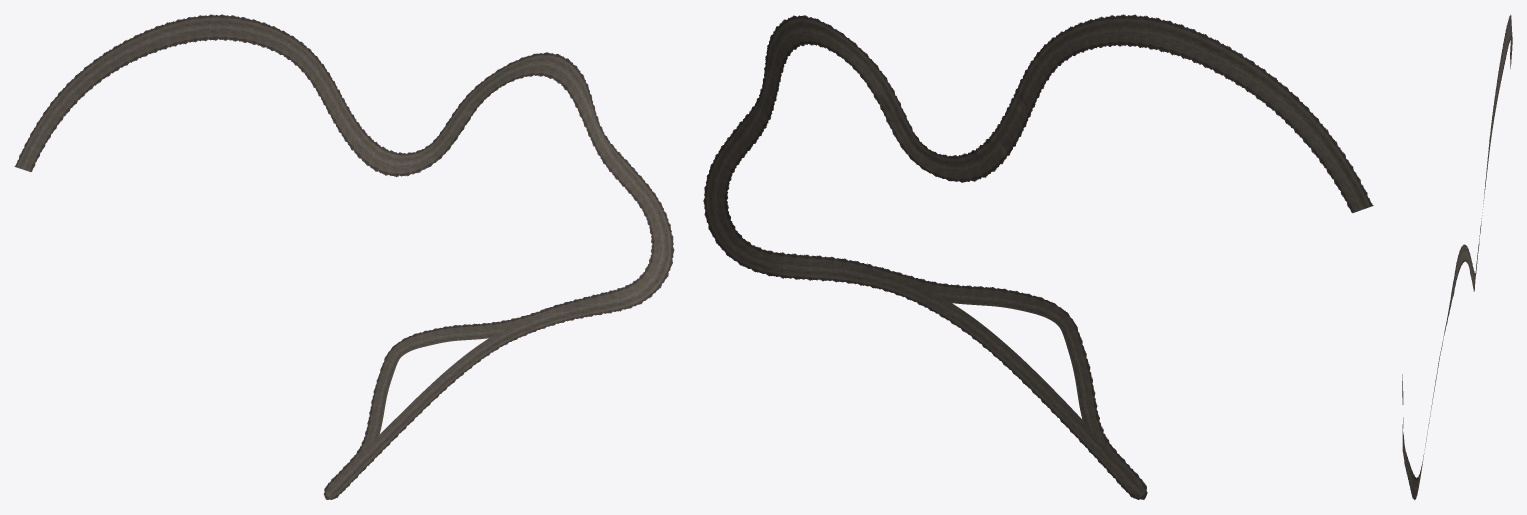
3 views of the same model, side by side, from view 1: azimuth 30°, elevation 25°; view 2: azimuth 150°, elevation 25°; view 3: azimuth 270°, elevation 25° (orthographic). The views are drawn at different scales.
Size of the model in its own units: 226 by 164 by 41.06.
Materials: 1 (1 with a texture image).
